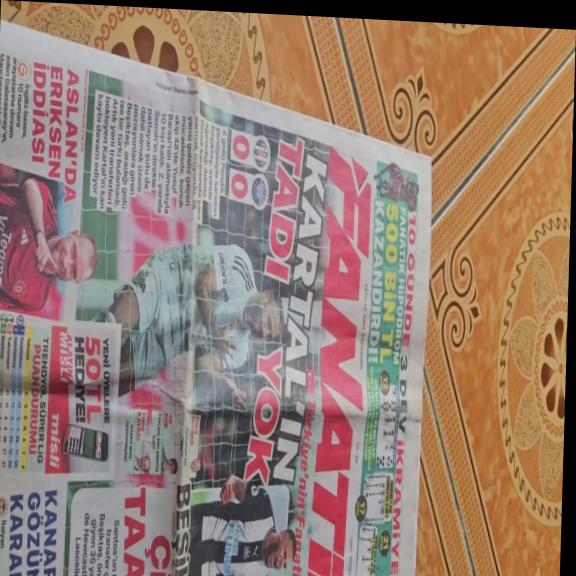Kertas: (0, 18, 431, 576)
